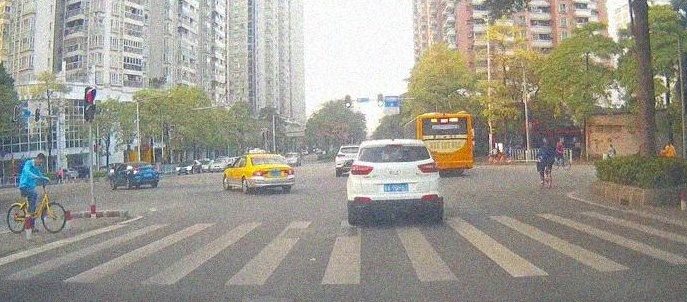L_light: (351, 164, 374, 175), (253, 170, 268, 176), (131, 168, 140, 173)
R_light: (417, 162, 438, 173), (282, 170, 294, 175), (151, 166, 158, 171)
T_light: (387, 144, 402, 147), (265, 156, 272, 158), (139, 163, 143, 164)
day-no: (346, 139, 444, 226), (247, 154, 295, 194), (128, 162, 159, 189)
